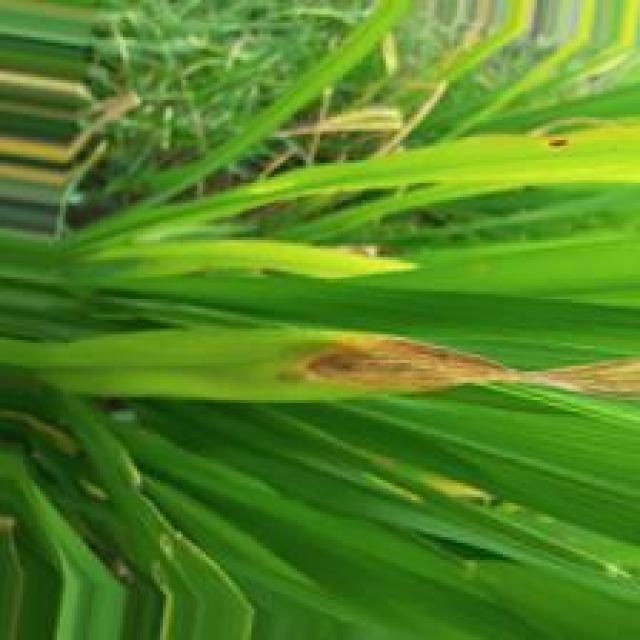Leaf_Scald: (288, 338, 640, 396)
